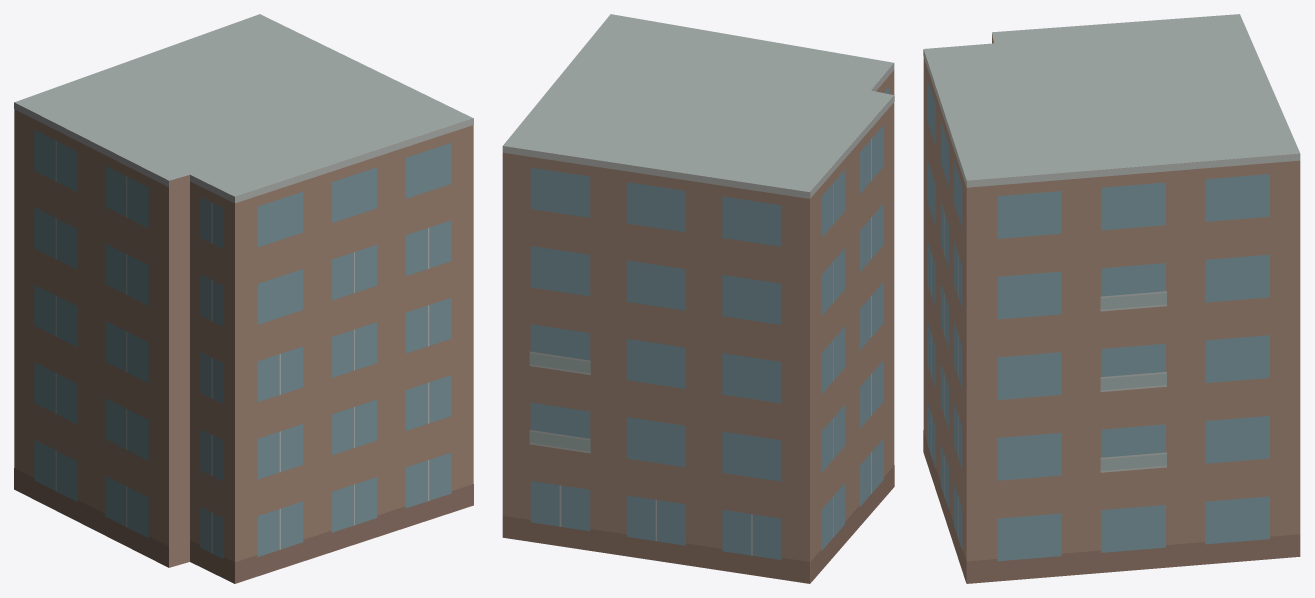
File: survey-upis-32778007.glb
3 views of the same model, side by side, from view 1: azimuth 30°, elevation 25°; view 2: azimuth 150°, elevation 25°; view 3: azimuth 270°, elevation 25° (orthographic). The views are drawn at different scales.
Parts seen in each view (by area): view 1: survey-upis-32778007.tmp; view 2: survey-upis-32778007.tmp; view 3: survey-upis-32778007.tmp.
Part boxes in pixels (<box>): survey-upis-32778007.tmp: <box>14,14,473,583</box>; survey-upis-32778007.tmp: <box>502,14,894,583</box>; survey-upis-32778007.tmp: <box>923,14,1300,583</box>.
Bounding box in the file's own units: 12.61 × 14.2 × 12.05.
